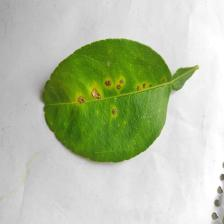canker: (68, 60, 170, 134)
